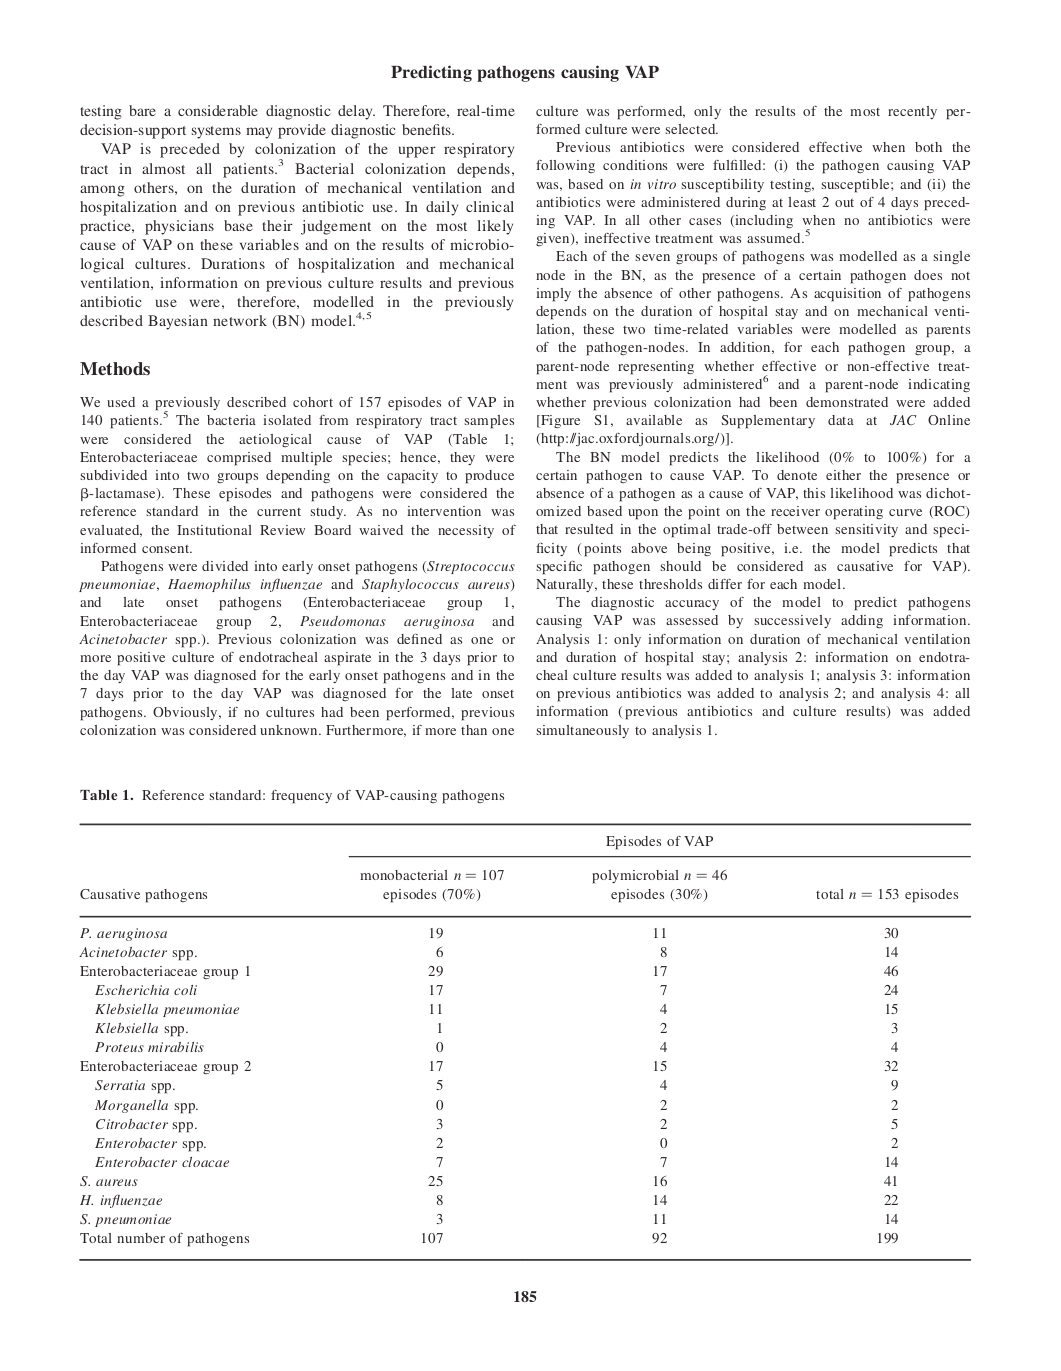Table: (79, 823, 971, 1260)
